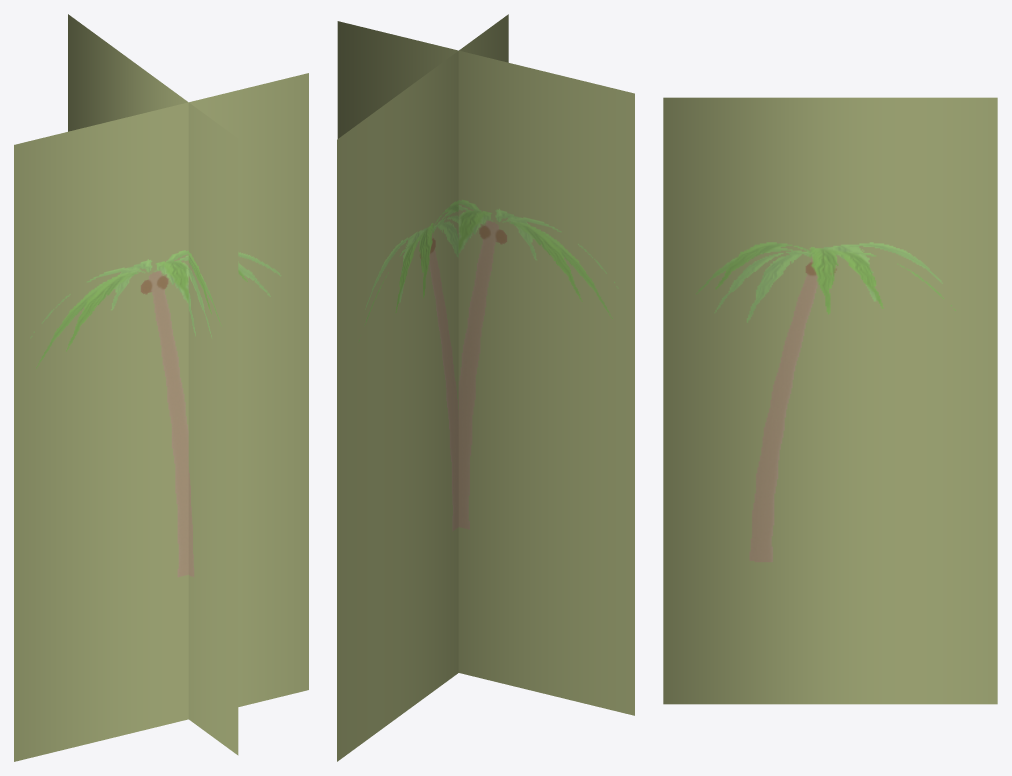
File: palm_1_far.glb
The picture shows the model from 3 angles, left to right: view 1: azimuth 30°, elevation 25°; view 2: azimuth 150°, elevation 25°; view 3: azimuth 270°, elevation 25°; orthographic projection. The views are drawn at different scales.
Parts seen in each view (by area): view 1: palm_1_far; view 2: palm_1_far; view 3: palm_1_far.
Part boxes in pixels (box(x1,y1,x2,y2)): palm_1_far: box(14, 14, 308, 761); palm_1_far: box(337, 14, 634, 761); palm_1_far: box(663, 97, 997, 704).
Bounding box in the file's own units: 7.02 × 14.04 × 7.02.
1 material, 1 textured.
